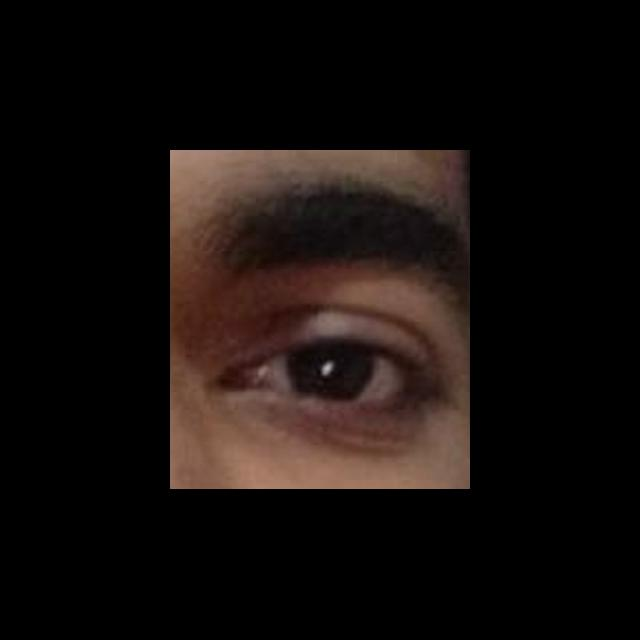eye: (258, 339, 409, 406)
iris: (286, 343, 374, 400)
